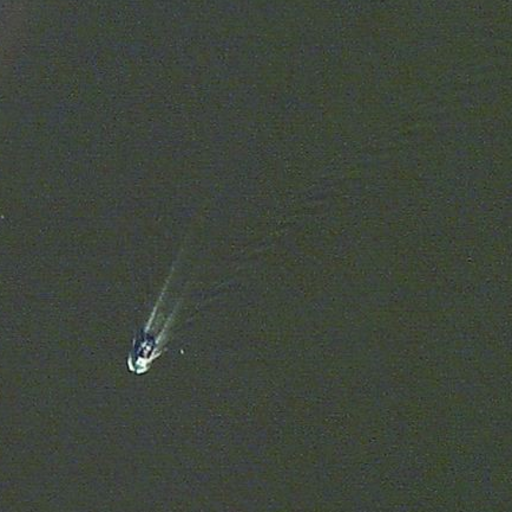ship: (123, 324, 164, 378)
